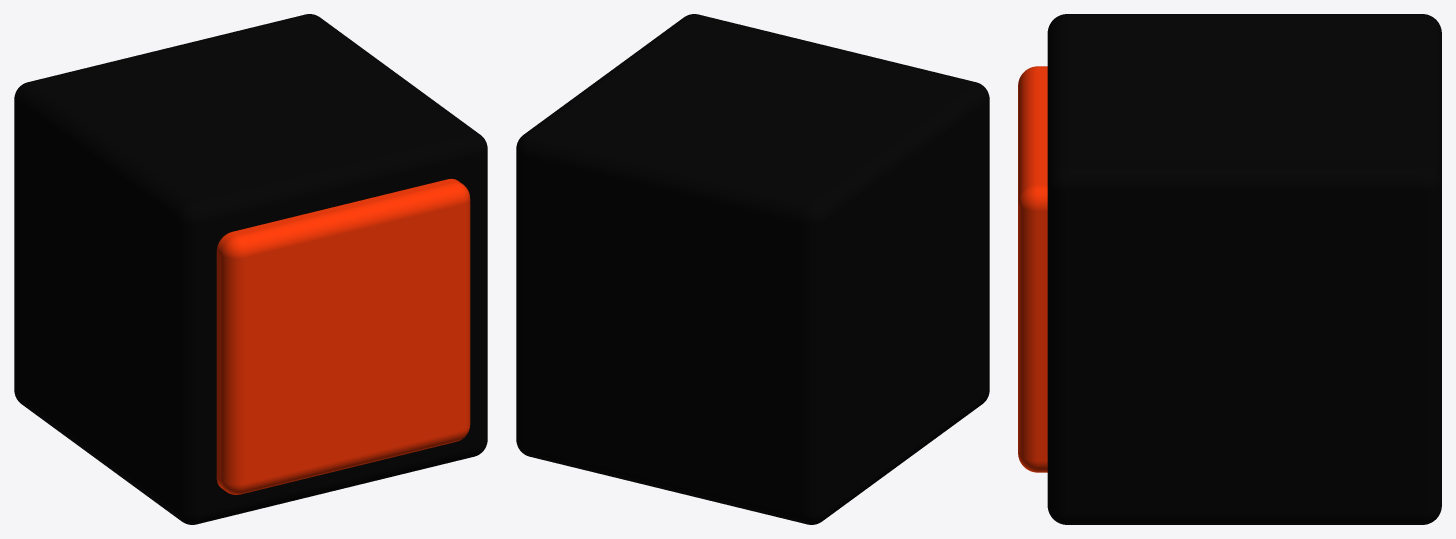
The model's file is cubinho(0, 0, 1).obj.
3 renders of one model, left to right at view 1: azimuth 30°, elevation 25°; view 2: azimuth 150°, elevation 25°; view 3: azimuth 270°, elevation 25°, orthographic. The views are drawn at different scales.
Visible parts, largest first — view 1: (0,_0,_1); view 2: (0,_0,_1); view 3: (0,_0,_1).
Boxes of the visible parts, x1,y1,x2,y2 form: (0,_0,_1): (14, 14, 487, 524); (0,_0,_1): (516, 14, 989, 524); (0,_0,_1): (1018, 14, 1441, 524).
Bounding box in the file's own units: 2 × 2 × 2.15.
